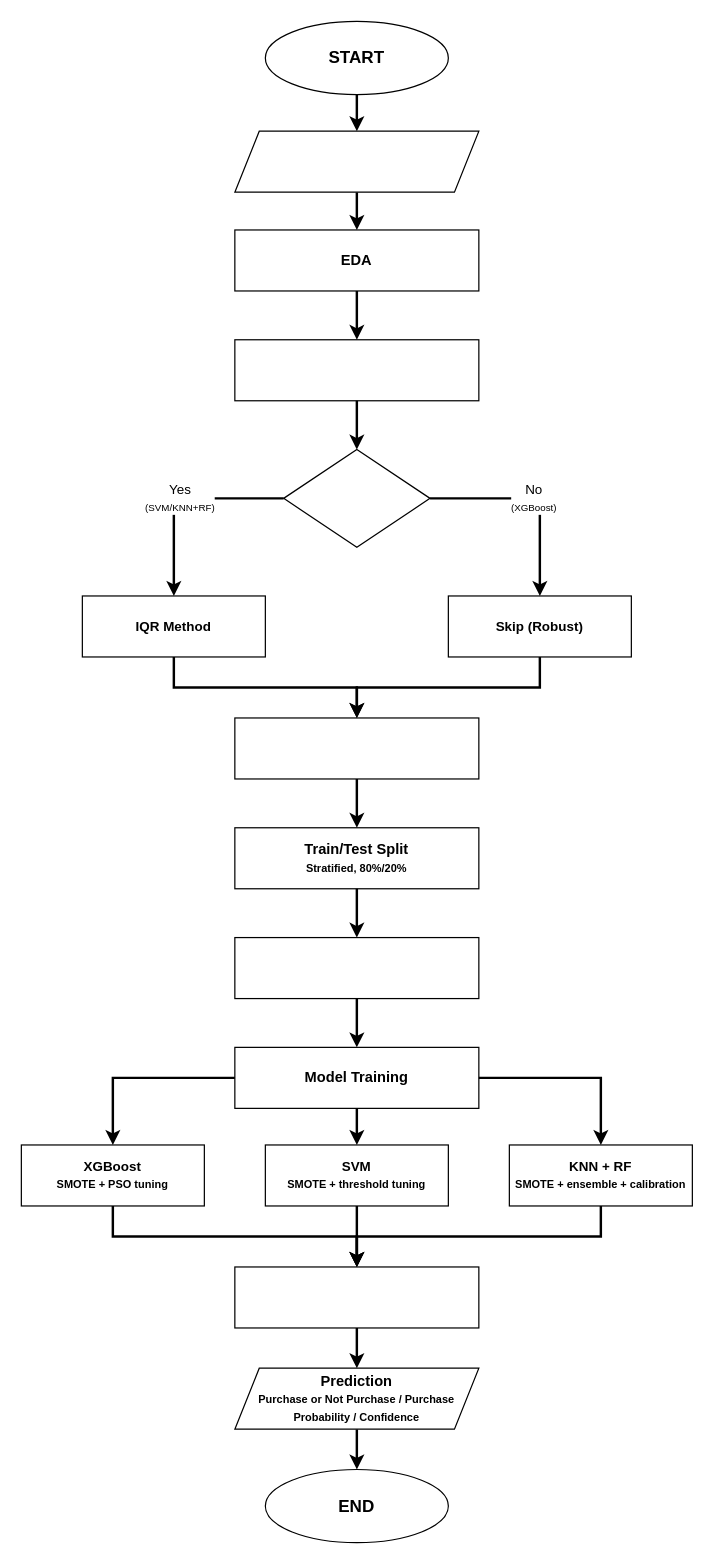
Image size: 714x1564. Some labels were removed from this diagram. Here are the shapes that lost their labels. From the top down, the centre of each, then its label:
(356,161): Raw Data
(356,370): Data Cleaning Drop duplicates, impute missing
(356,497): Outlier Removal?
(356,748): Feature Encoding One-hot; scaling for SVM/KNN+RF
(356,967): SMOTE Oversampling Handle Imbalanced Datasets
(356,1297): Model Evaluation Accuracy, precision, recall, F1, AUC
